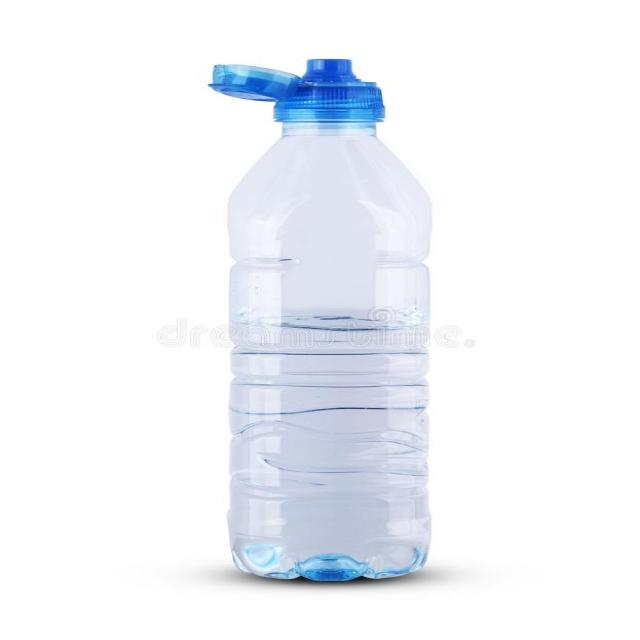bottle: (199, 54, 435, 580)
